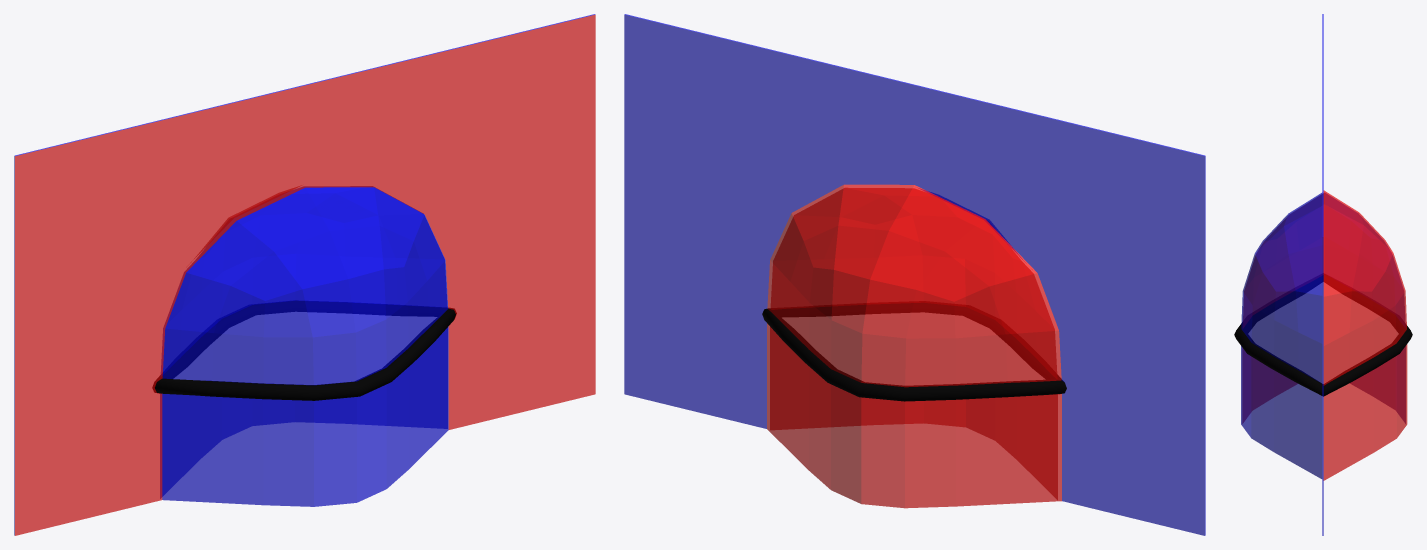
Rendered from 2incompressibility.glb.
The picture shows the model from 3 angles, left to right: view 1: azimuth 30°, elevation 25°; view 2: azimuth 150°, elevation 25°; view 3: azimuth 270°, elevation 25°; orthographic projection. The views are drawn at different scales.
Parts seen in each view (by area): view 1: Circle, merid_disk, merid_disk.001; view 2: Circle, merid_disk, merid_disk.001; view 3: Circle, merid_disk, merid_disk.001.
Part boxes in pixels (x1=…): Circle: x1=14, y1=14, x2=595, y2=535; merid_disk: x1=174, y1=312, x2=436, y2=384; merid_disk.001: x1=152, y1=301, x2=456, y2=400; Circle: x1=624, y1=14, x2=1205, y2=535; merid_disk: x1=782, y1=312, x2=1044, y2=385; merid_disk.001: x1=762, y1=302, x2=1066, y2=401; Circle: x1=1241, y1=14, x2=1407, y2=535; merid_disk: x1=1248, y1=282, x2=1398, y2=383; merid_disk.001: x1=1234, y1=274, x2=1412, y2=396.
Size of the model in its own units: 4 by 2.5 by 1.35.
